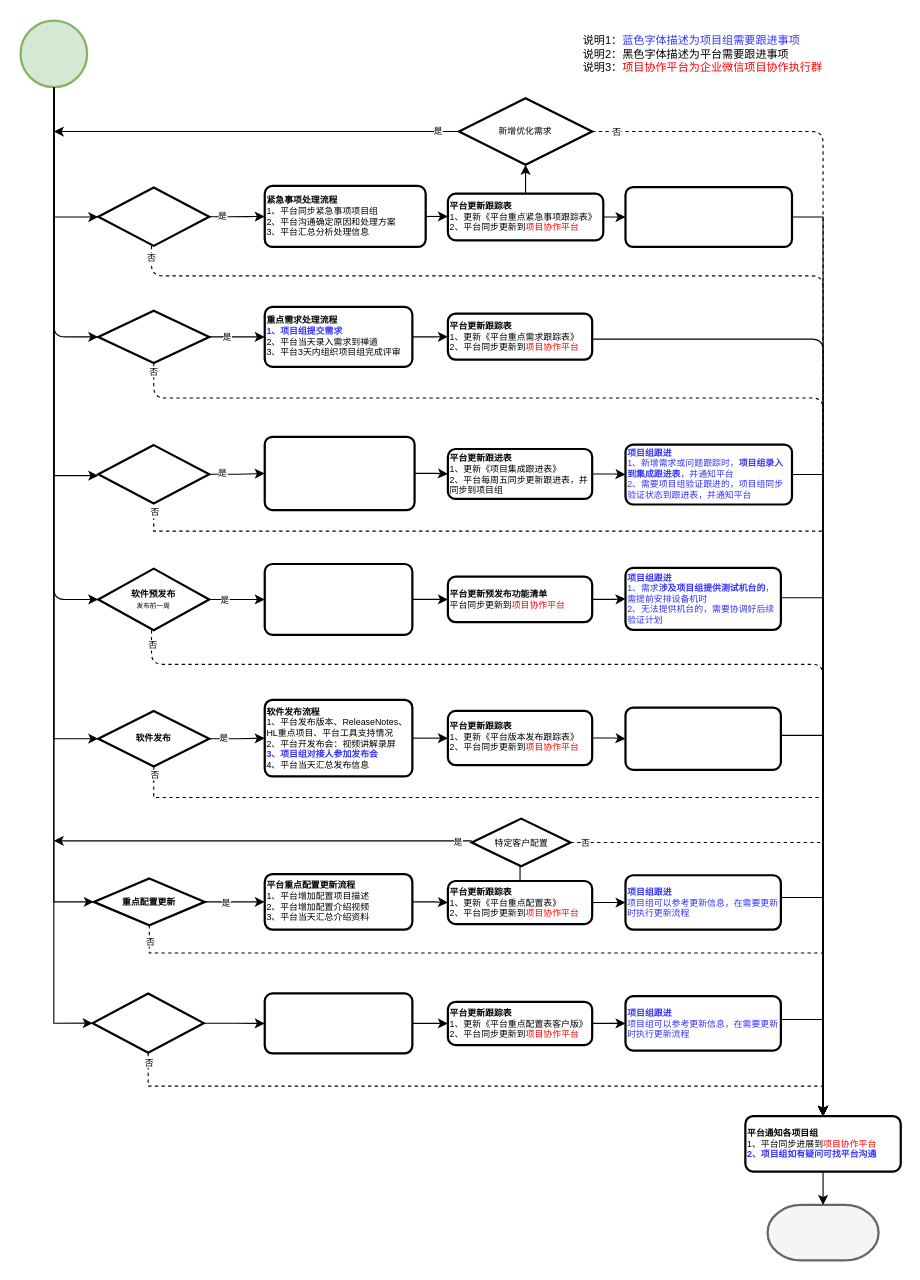
Some shapes in this 920 by 1280 pixel diagram are drawn without their labels. The shapes that lost their labels are listed below. From the top down, each one's box as (x1, y1, x2, y2) in pixels, then its label:
(19, 19, 88, 88): 启动
(97, 186, 210, 246): 紧急事项发生
(624, 185, 793, 248): 项目组跟进 1、项目组查看紧急事项， 3天内更新处理方案到跟踪表项目组列 2、超过3天会报告部门负责人
(97, 309, 210, 364): 重点定制需求
(97, 443, 210, 504): 集成进展反馈
(263, 435, 415, 511): 各项目组需求问题反馈流程 1、平台建立各项目组对应的集成跟进表，挂到各项目组 2、项目组有 新增需求或问题跟踪时，项目 组录入到跟进表，并截图通知到 项目组
(263, 562, 413, 635): 软件预发布流程 1、平台整理预发布功能列表 2、平台同步信息到 项目协作平台 3、项目组当天确认并补充需求 4、 平台当天更新预发布功能清单
(624, 706, 781, 770): 项目组跟进 1、项目组 3天内更新跟踪表 对应 项目组字段的信息，写明是否有更新 计划 2、有更新计划写明日期及机台， 首次完成升级的时间
(91, 992, 204, 1053): 客户重点配置更新
(263, 992, 413, 1054): 平台重点配置表客户版更新流程 1、平台增加配置项目描述 2、平台增加配置介绍视频 3、平台当天汇总介绍资料
(766, 1203, 879, 1261): 结束
